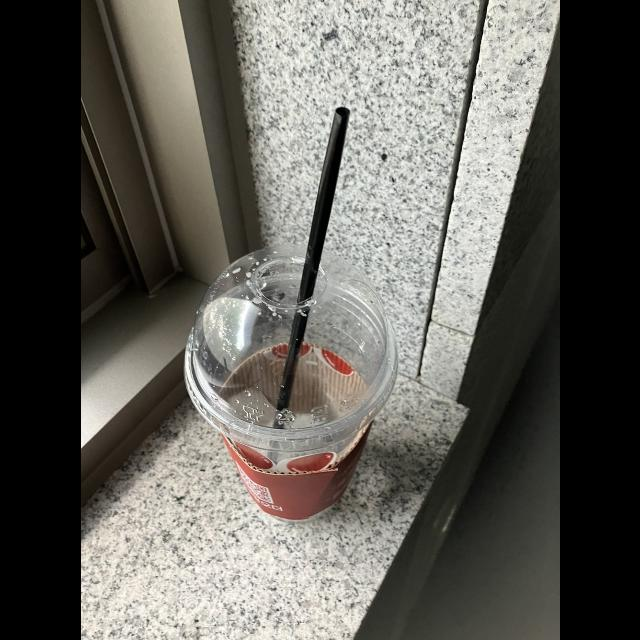plastic_cup: (178, 238, 400, 518)
plastic_cup_lid: (176, 237, 400, 455)
straw: (268, 107, 351, 447)
